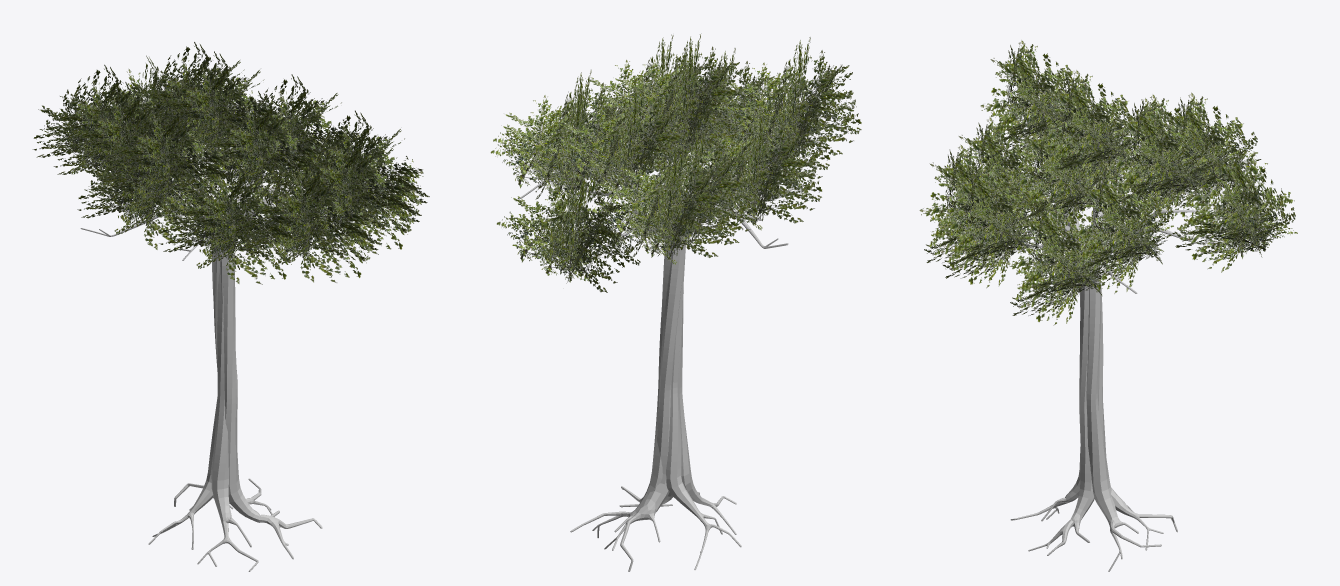
File: Tree_2.fbx
3 renders of one model, left to right at view 1: azimuth 30°, elevation 25°; view 2: azimuth 150°, elevation 25°; view 3: azimuth 270°, elevation 25°, orthographic. The views are drawn at different scales.
Parts seen in each view (by area): view 1: Tree_2_Leaves, Tree_2_Trunk; view 2: Tree_2_Leaves, Tree_2_Trunk; view 3: Tree_2_Leaves, Tree_2_Trunk.
Part boxes in pixels (bbox=[...]): Tree_2_Leaves: bbox=[32, 42, 429, 284]; Tree_2_Trunk: bbox=[80, 156, 344, 571]; Tree_2_Leaves: bbox=[490, 33, 861, 292]; Tree_2_Trunk: bbox=[520, 157, 801, 571]; Tree_2_Leaves: bbox=[919, 40, 1297, 325]; Tree_2_Trunk: bbox=[973, 169, 1234, 571].
Size of the model in its own units: 531 by 770 by 601.
